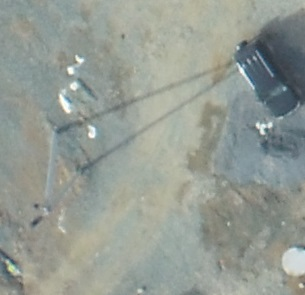opora: (29, 112, 122, 227)
